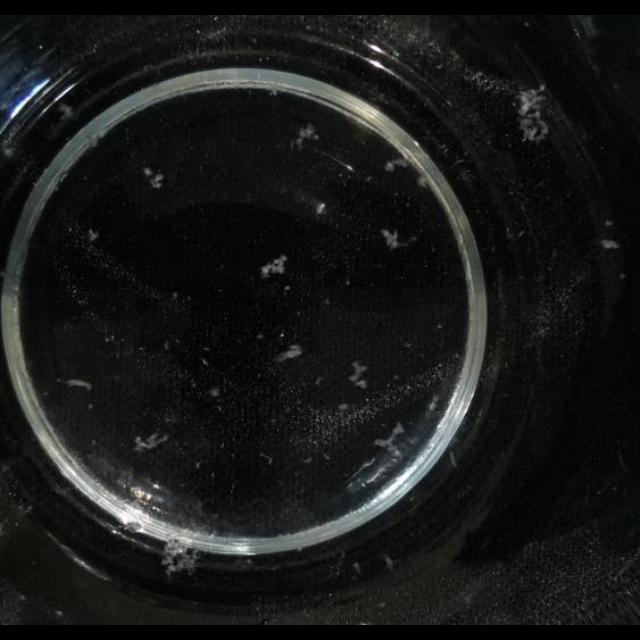Fibre: (516, 87, 552, 143), (162, 540, 202, 578), (372, 422, 408, 453), (381, 228, 415, 250), (290, 124, 318, 150), (132, 432, 168, 452), (260, 255, 288, 278), (272, 344, 304, 364), (348, 360, 370, 388), (384, 156, 411, 174), (142, 168, 164, 190), (64, 378, 94, 392), (56, 102, 74, 121), (88, 229, 99, 243), (207, 387, 221, 398), (316, 202, 326, 215)
microbeads: (600, 240, 620, 250)
